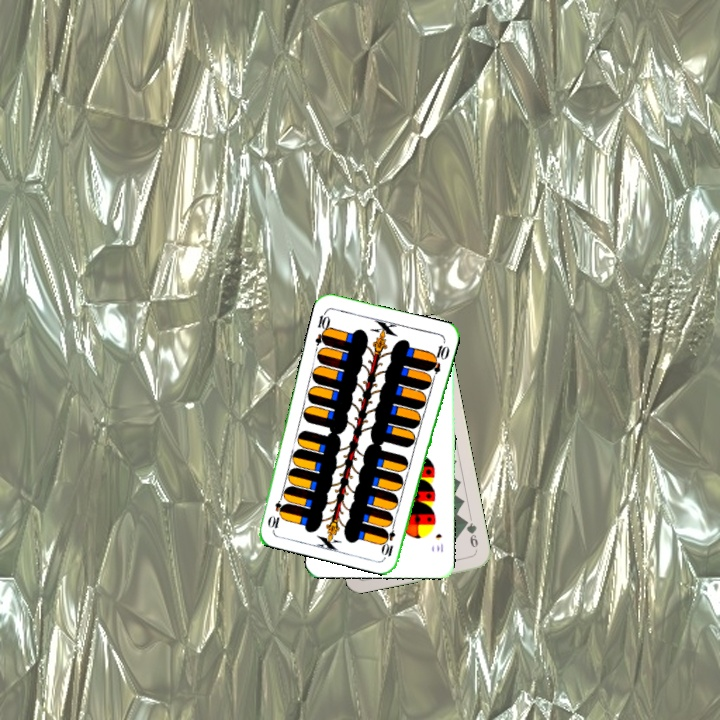E10: (311, 307, 333, 347), (380, 518, 398, 559)
G9: (460, 515, 481, 554)
S10: (432, 530, 446, 555)
